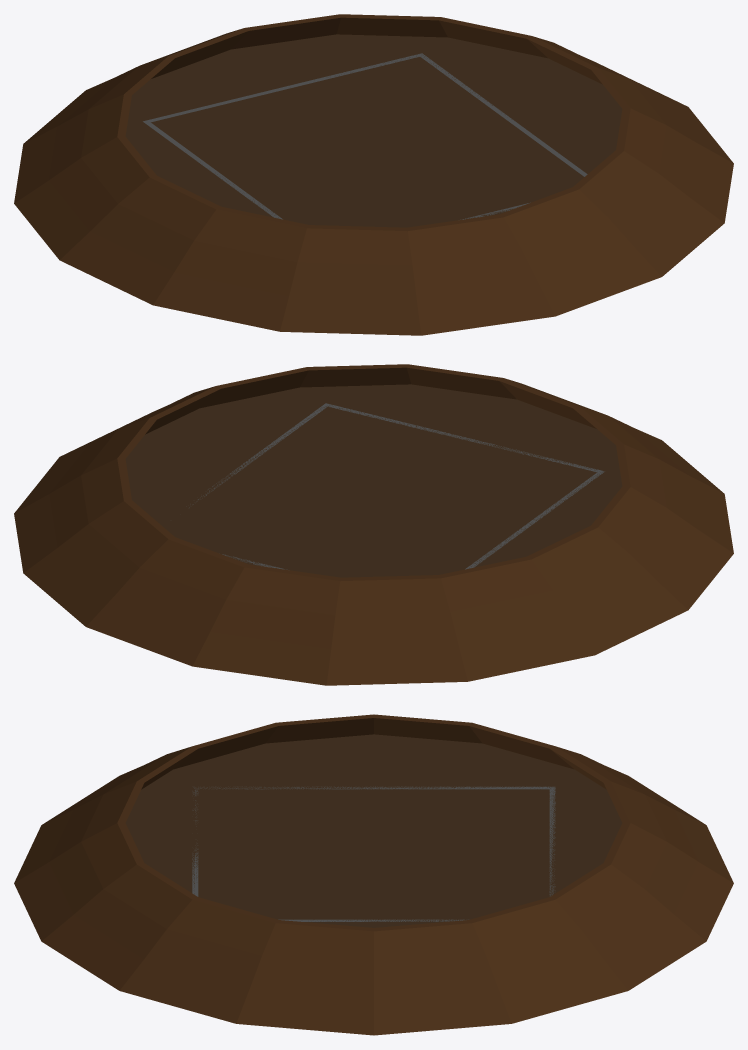
File: Earth Oven Open.fbx
3 renders of one model, top to bottom at view 1: azimuth 30°, elevation 25°; view 2: azimuth 150°, elevation 25°; view 3: azimuth 270°, elevation 25°, orthographic.
Parts seen in each view (by area): view 1: Earth Oven Open; view 2: Earth Oven Open; view 3: Earth Oven Open.
Part boxes in pixels (box(x1,y1,x2,y2)): Earth Oven Open: box(14, 14, 733, 335); Earth Oven Open: box(14, 364, 733, 685); Earth Oven Open: box(14, 714, 733, 1035).
Bounding box in the file's own units: 217 × 20.12 × 217.
